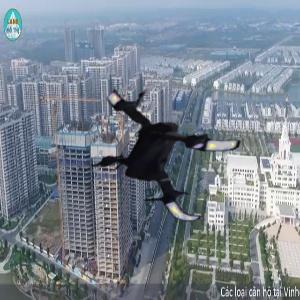drone: (71, 63, 243, 235)
